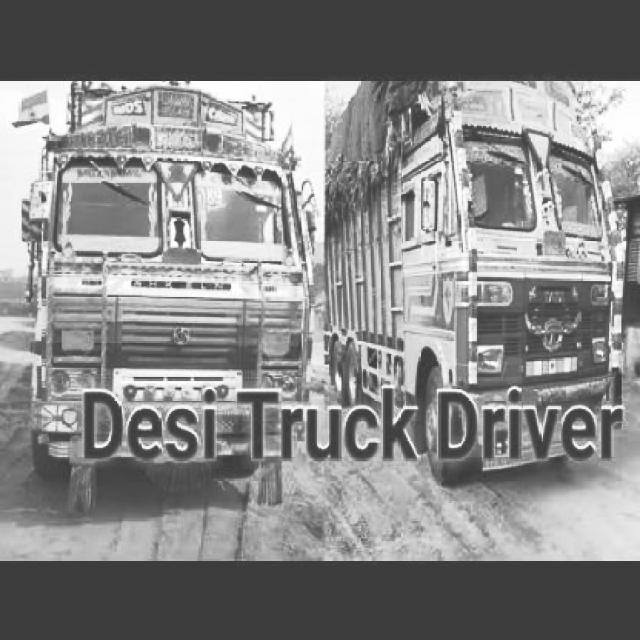HCV: (59, 81, 318, 492), (331, 92, 613, 445)
